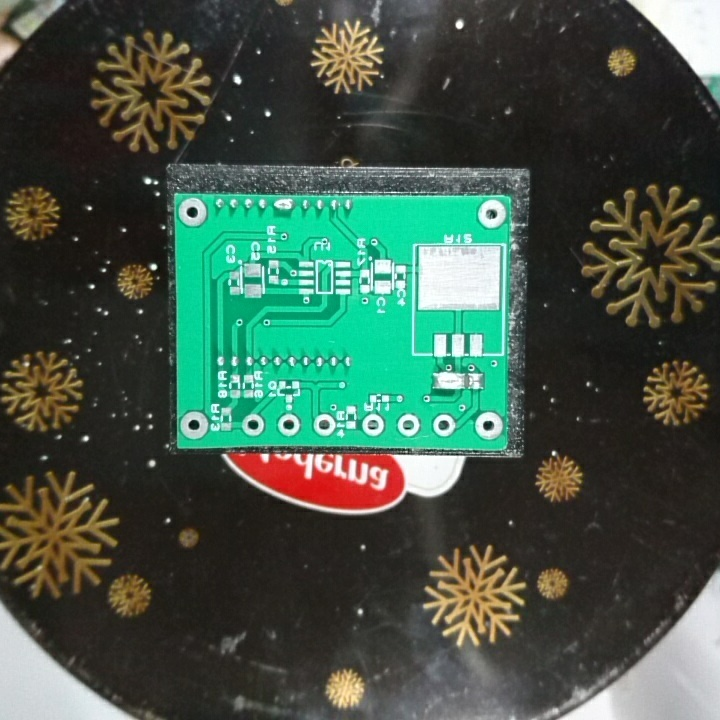F: (176, 194, 210, 231), (472, 408, 505, 443), (474, 197, 508, 230), (179, 409, 210, 443), (309, 411, 337, 440), (274, 410, 301, 440), (359, 410, 386, 440), (239, 411, 267, 439), (430, 412, 458, 440), (396, 411, 422, 439)
P: (429, 369, 466, 394), (271, 195, 297, 217)
